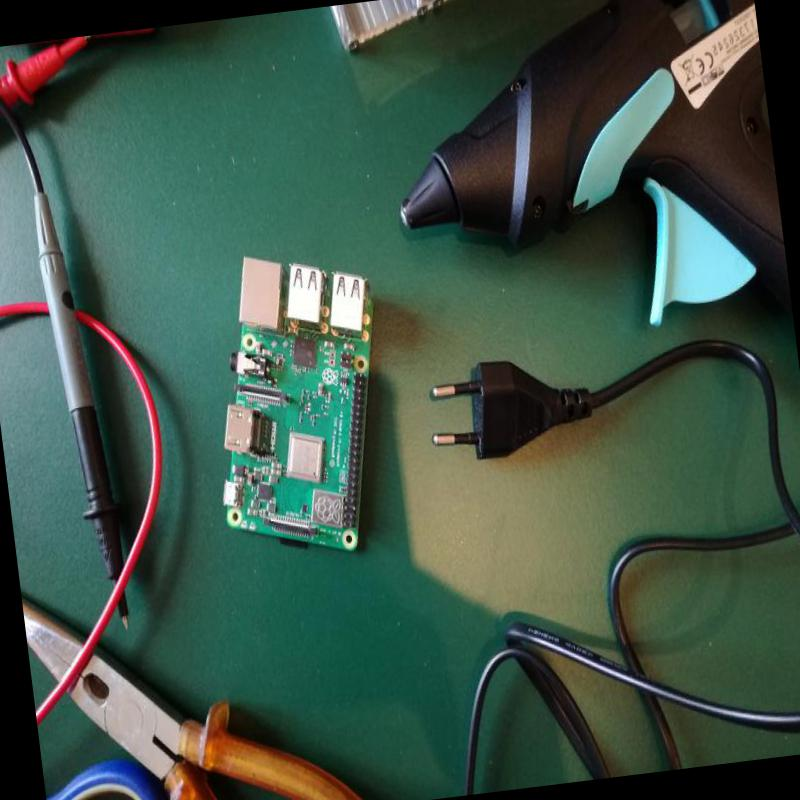Raspberry_Pi_3: (183, 234, 426, 574)
